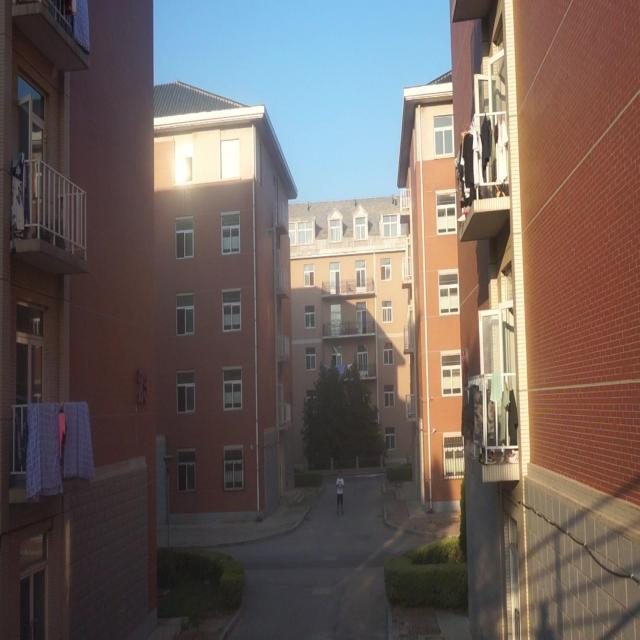UAV: (267, 226, 275, 235)
